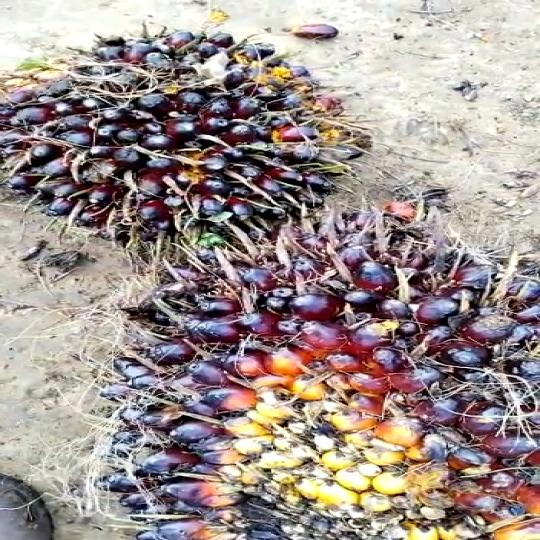kurang masak: (82, 219, 539, 540), (0, 33, 371, 254)
